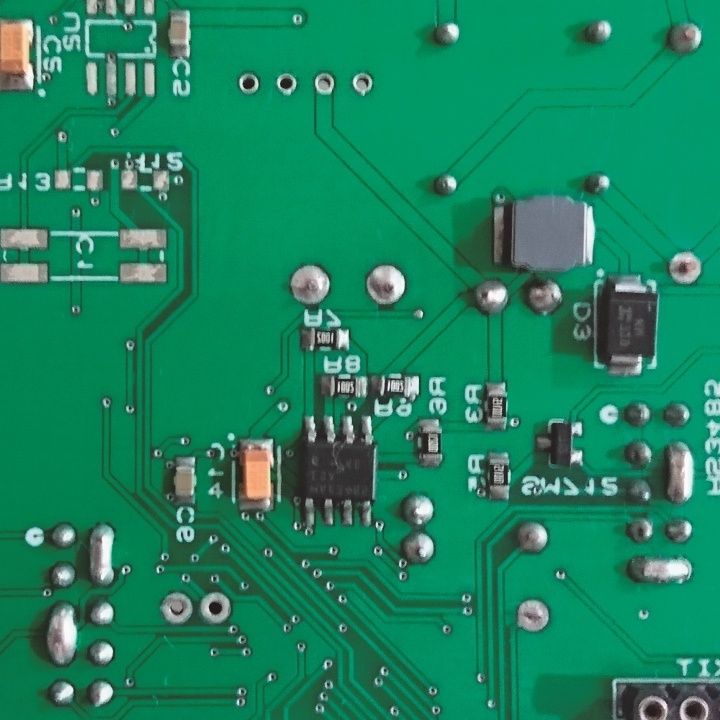F: (286, 262, 331, 306), (364, 264, 406, 306), (516, 596, 555, 636), (668, 250, 704, 289), (199, 588, 232, 627), (159, 590, 193, 626), (314, 70, 338, 100), (352, 70, 377, 97), (237, 72, 261, 98), (276, 72, 299, 97)
P: (624, 550, 694, 587), (44, 598, 80, 666), (664, 438, 698, 506), (87, 520, 119, 590)
